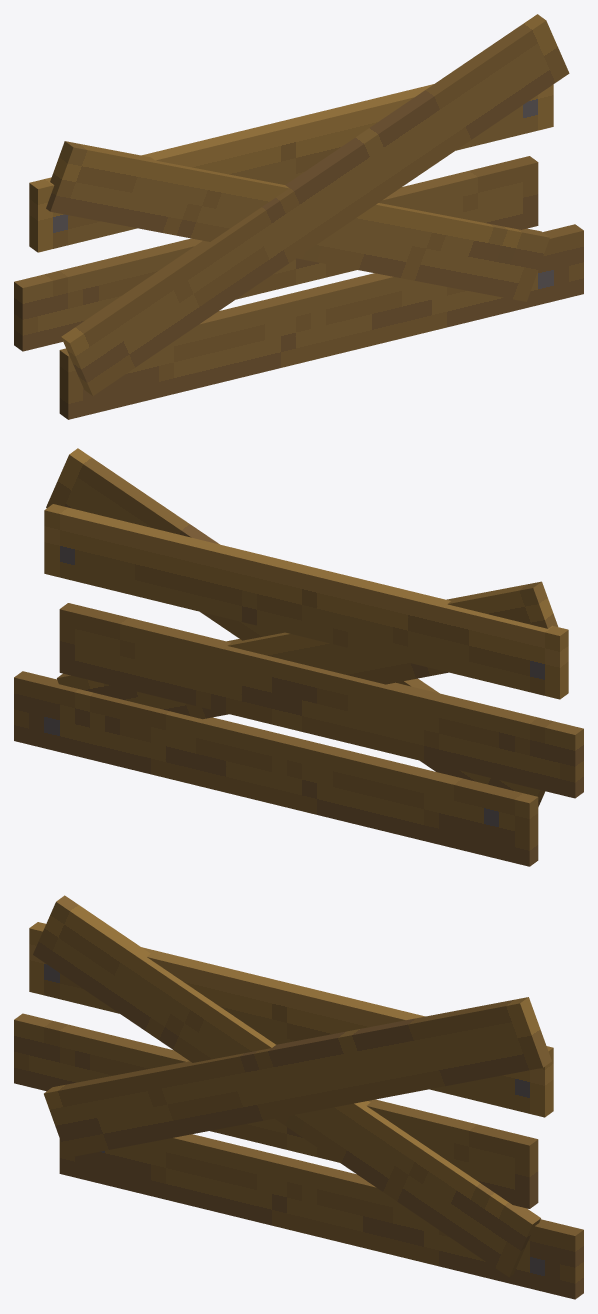
The model's file is wood-barrier.gltf.
3 views of the same model, one above another, from view 1: azimuth 30°, elevation 25°; view 2: azimuth 150°, elevation 25°; view 3: azimuth 330°, elevation 25° (orthographic).
Visible parts, largest first — view 1: cube (×5); view 2: cube (×5); view 3: cube (×5).
Boxes of the visible parts, x1,y1,x2,y2 form: cube (×5): [14, 14, 583, 419]; cube (×5): [14, 448, 583, 866]; cube (×5): [14, 895, 583, 1299].
Size of the model in its own units: 2.31 by 1.15 by 0.125.
1 material, 1 textured.
